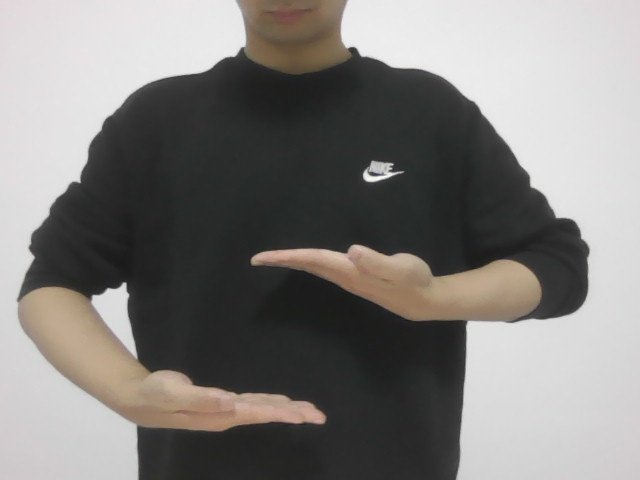happy: (132, 236, 439, 442)
